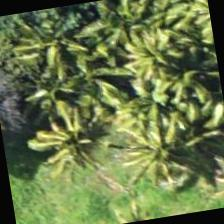Kelapa_Sawit: (37, 90, 140, 192), (124, 0, 222, 102), (128, 34, 223, 137), (135, 88, 223, 192), (2, 2, 104, 90), (88, 0, 188, 66), (158, 0, 214, 44)
